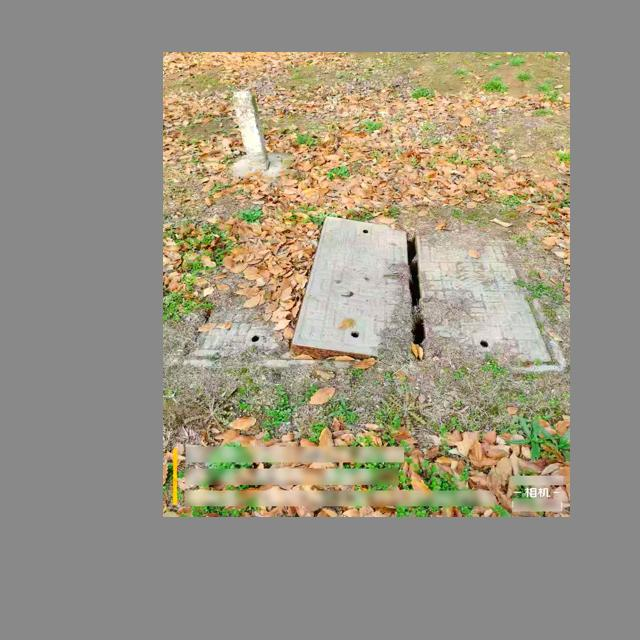uncovered: (169, 215, 563, 372)
